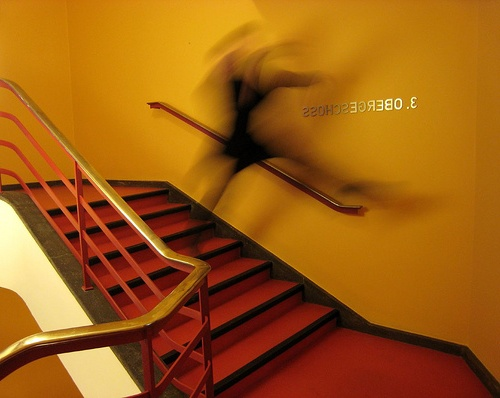stairs_up: (53, 192, 335, 386)
